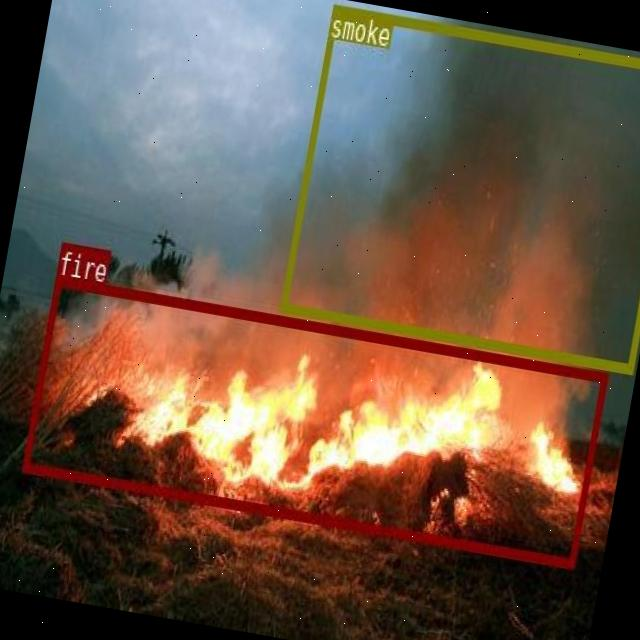fire: (21, 274, 606, 566)
smoke: (279, 2, 640, 370)
